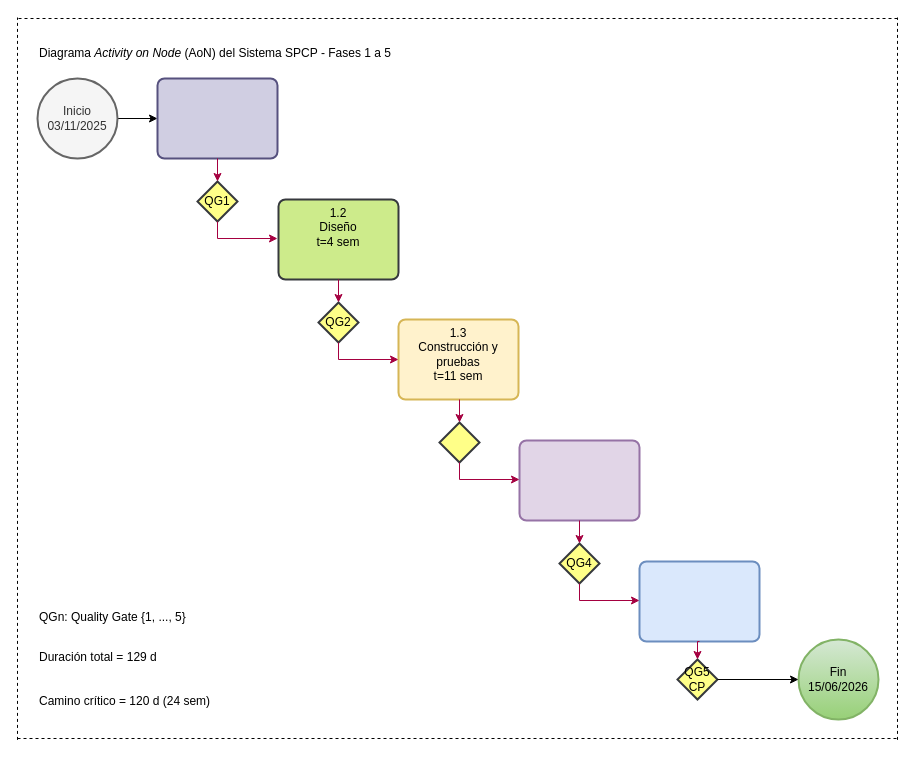
Image size: 917x759. Some labels were removed from this diagram. Each missing label, with the centre of its shape:
"1.1 Preparación Inicial t=2 sem" goes at point (217, 118).
"1.4 Preparación Final t=4 sem" goes at point (579, 480).
"1.5 Salida en vivo y soporte t=3 sem" goes at point (699, 601).
"QG3" goes at point (459, 442).
